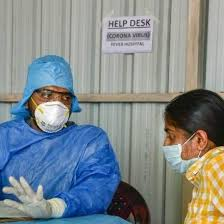mask: (155, 92, 213, 180), (28, 63, 71, 133)
